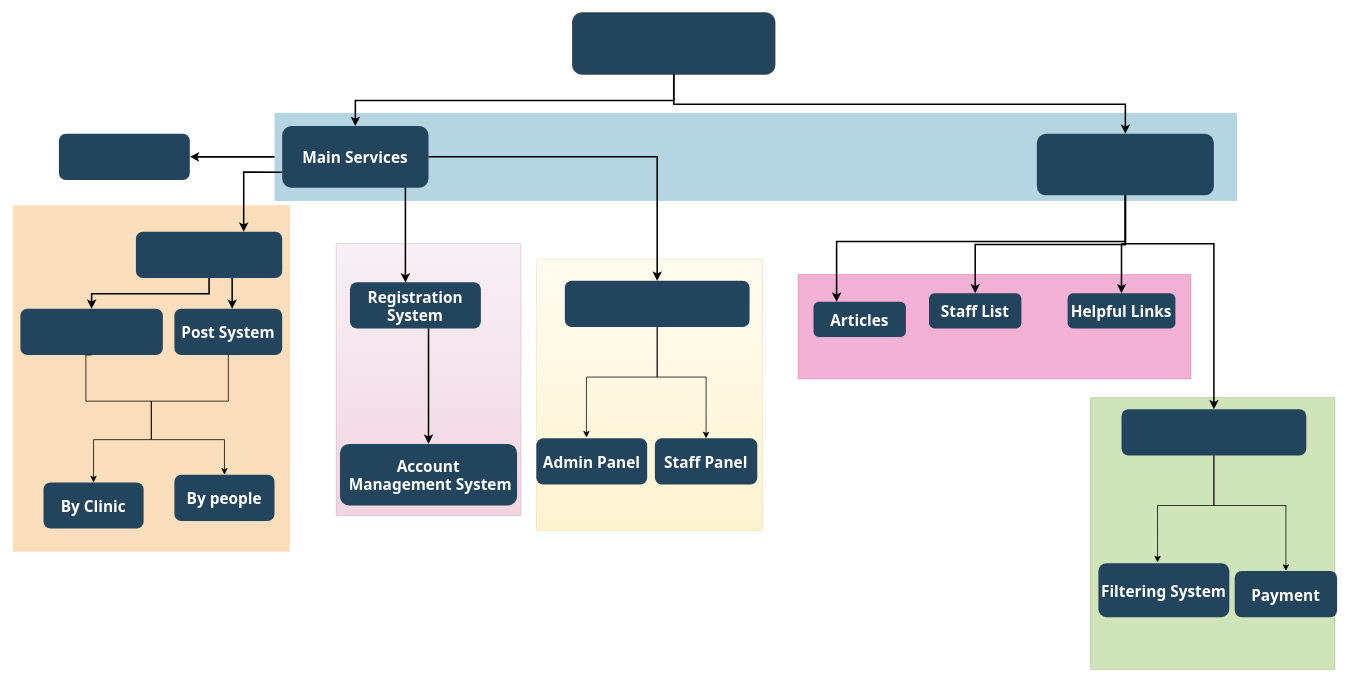
This 1350x682 diagram has some shape labels left out. Each missing label, with the centre of its shape:
Adoption System: (x=209, y=254)
Appointment System: (x=124, y=156)
Automation System: (x=656, y=303)
E-commerce System: (x=1213, y=432)
Pet Clinic WebApp: (x=673, y=43)
Pet Submission / Adoption: (x=91, y=331)
Secondary Services: (x=1125, y=164)
